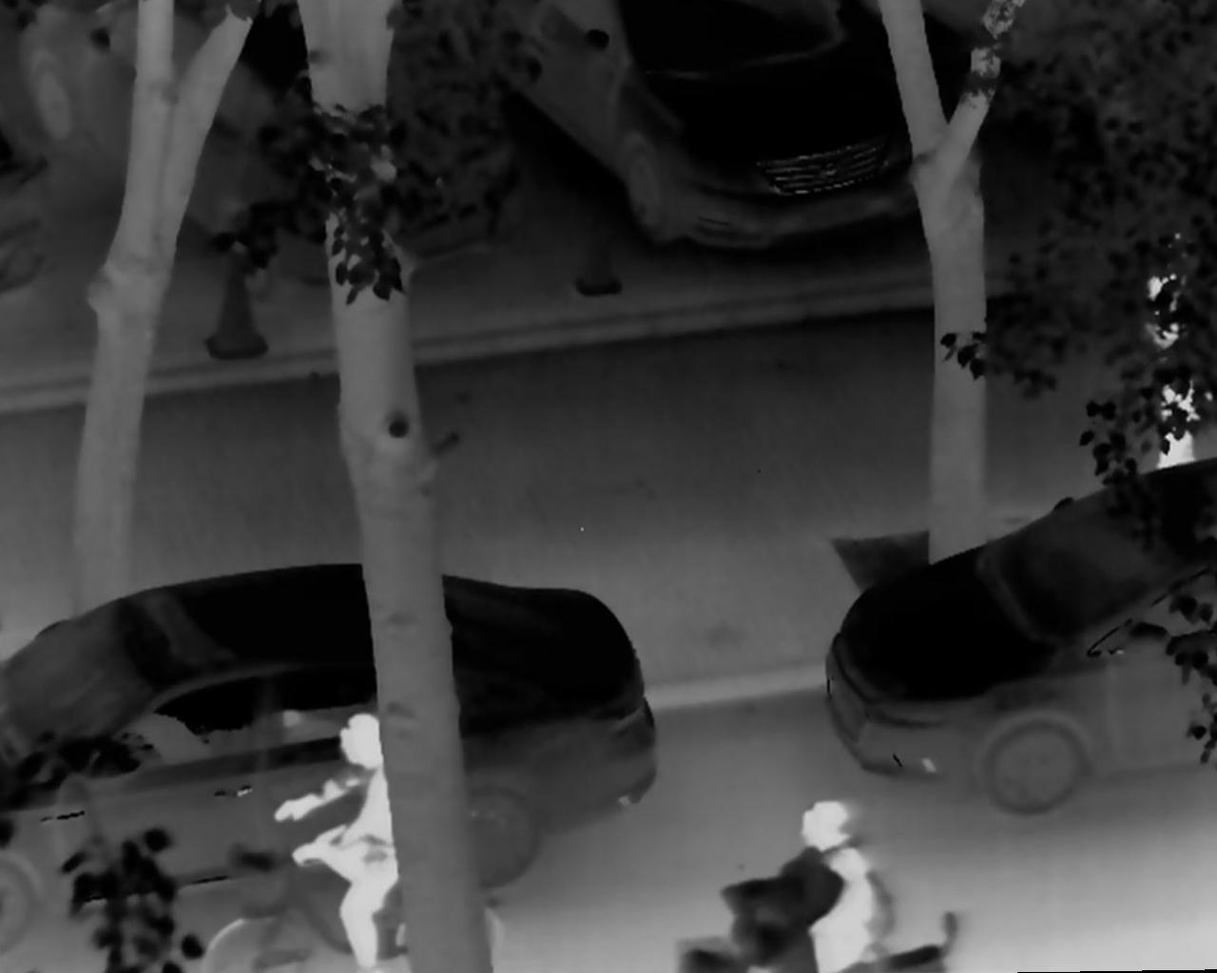person: (274, 706, 404, 973), (1143, 218, 1217, 478), (772, 792, 878, 973)
